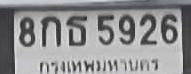2: (139, 13, 156, 44)
5: (97, 14, 113, 44)
6: (160, 13, 177, 43)
8: (18, 16, 34, 46)
9: (118, 14, 134, 44)
A01: (40, 15, 60, 46)
A24: (65, 15, 87, 46)
BKK: (37, 54, 160, 74)
